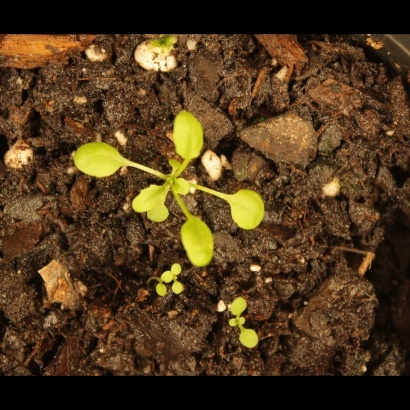leaf: (68, 139, 132, 181), (227, 182, 274, 235), (176, 217, 223, 270), (169, 109, 214, 162), (128, 183, 171, 214), (148, 196, 172, 237), (238, 329, 269, 353), (146, 281, 173, 307), (228, 296, 255, 319), (161, 258, 184, 282), (173, 282, 196, 305)
